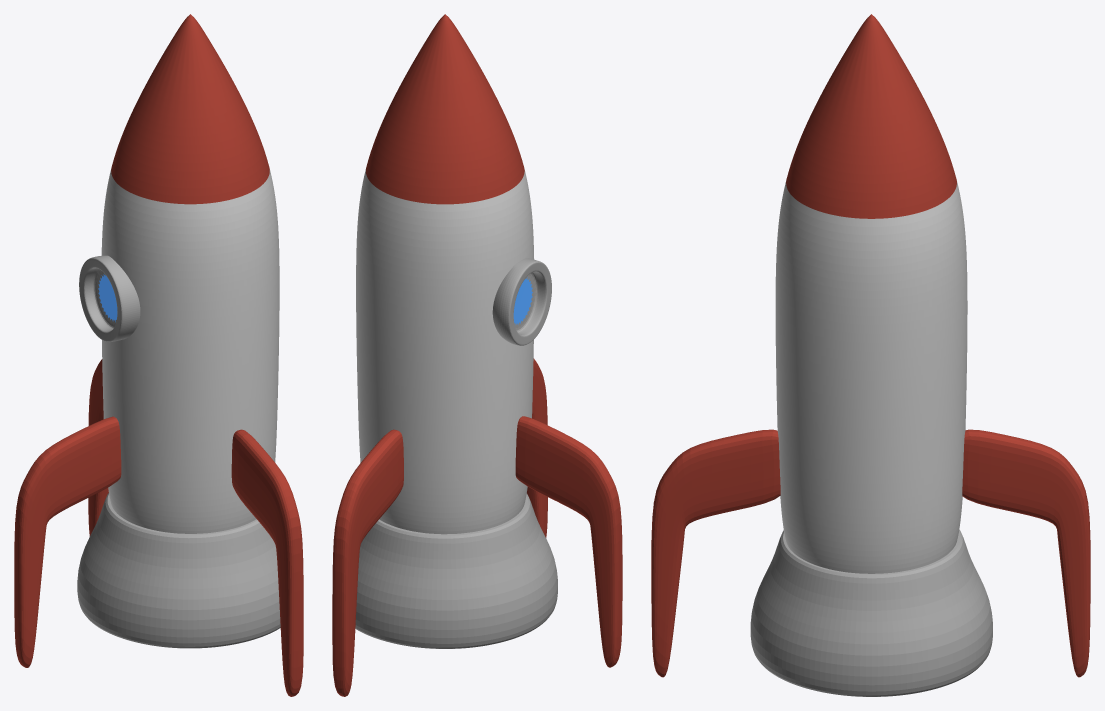
Rendered from myrocket.fbx.
The picture shows the model from 3 angles, left to right: view 1: azimuth 30°, elevation 25°; view 2: azimuth 150°, elevation 25°; view 3: azimuth 270°, elevation 25°; orthographic projection. The views are drawn at different scales.
Visible parts, largest first — view 1: Cylinder.003; view 2: Cylinder.003; view 3: Cylinder.003.
Part boxes in pixels (x1,y1,x2,y2): Cylinder.003: (14,14,303,696); Cylinder.003: (332,14,622,696); Cylinder.003: (651,14,1090,696).
Bounding box in the file's own units: 4248 × 9162 × 5530.
